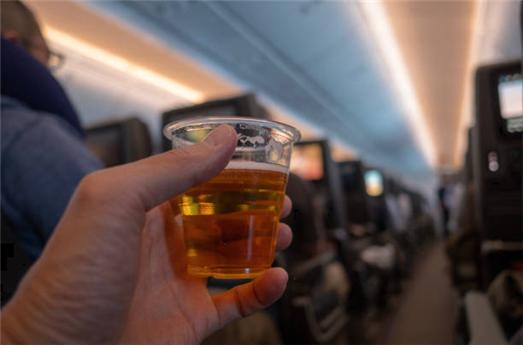alcohol: (162, 116, 298, 280)
